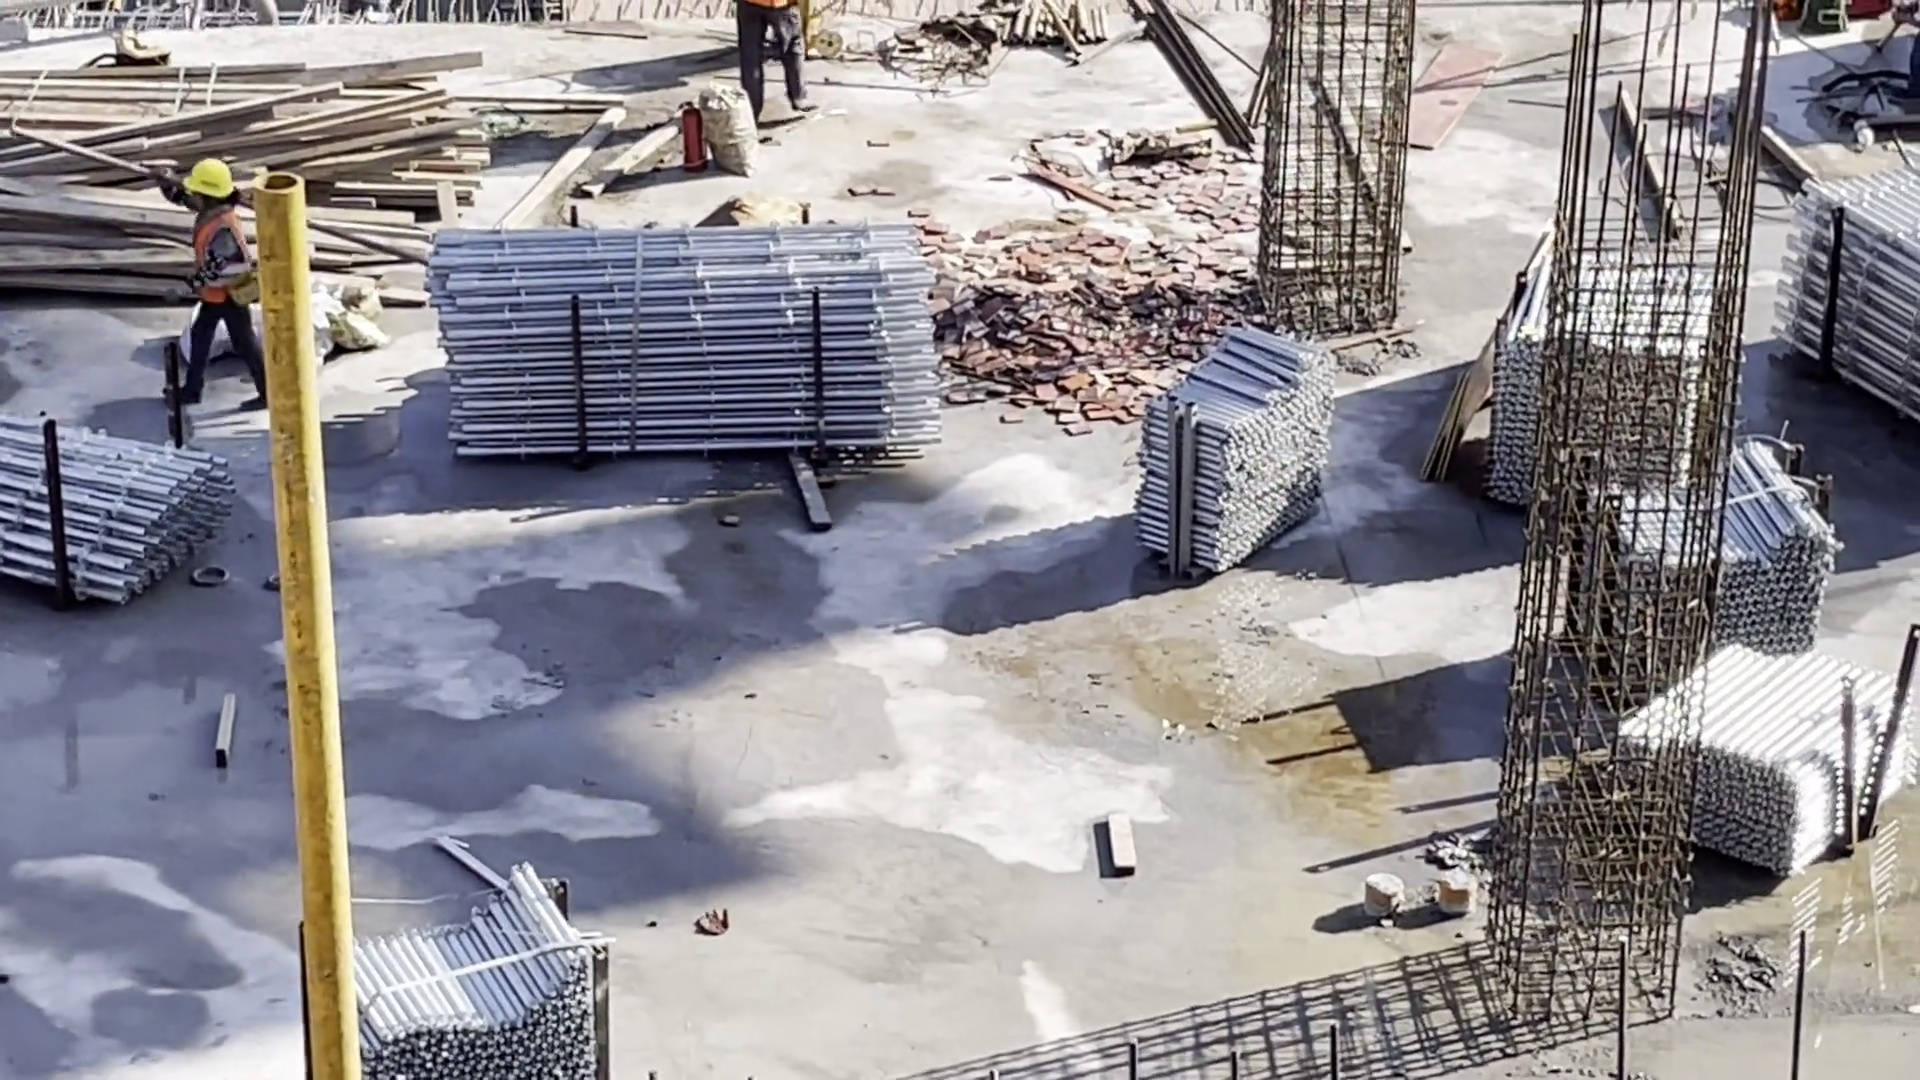helmet: (180, 160, 235, 198)
person: (163, 157, 264, 406), (735, 1, 817, 125)
scaffold: (426, 219, 950, 494), (1619, 638, 1920, 887), (1489, 254, 1716, 537), (333, 856, 615, 1080), (1591, 443, 1836, 660), (1135, 331, 1341, 586), (1, 410, 247, 619), (1771, 133, 1920, 425)
vest: (185, 210, 249, 303)
wood: (2, 55, 492, 264)
